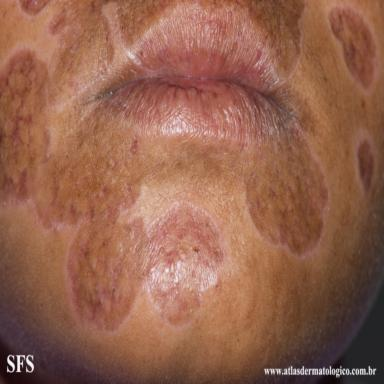Lupus-Erythematosus-Chronicus-Discoides: (0, 3, 144, 226), (67, 201, 225, 330), (247, 127, 328, 254), (192, 1, 305, 75), (329, 5, 377, 89), (117, 2, 170, 46), (357, 135, 376, 195), (19, 1, 48, 17)
